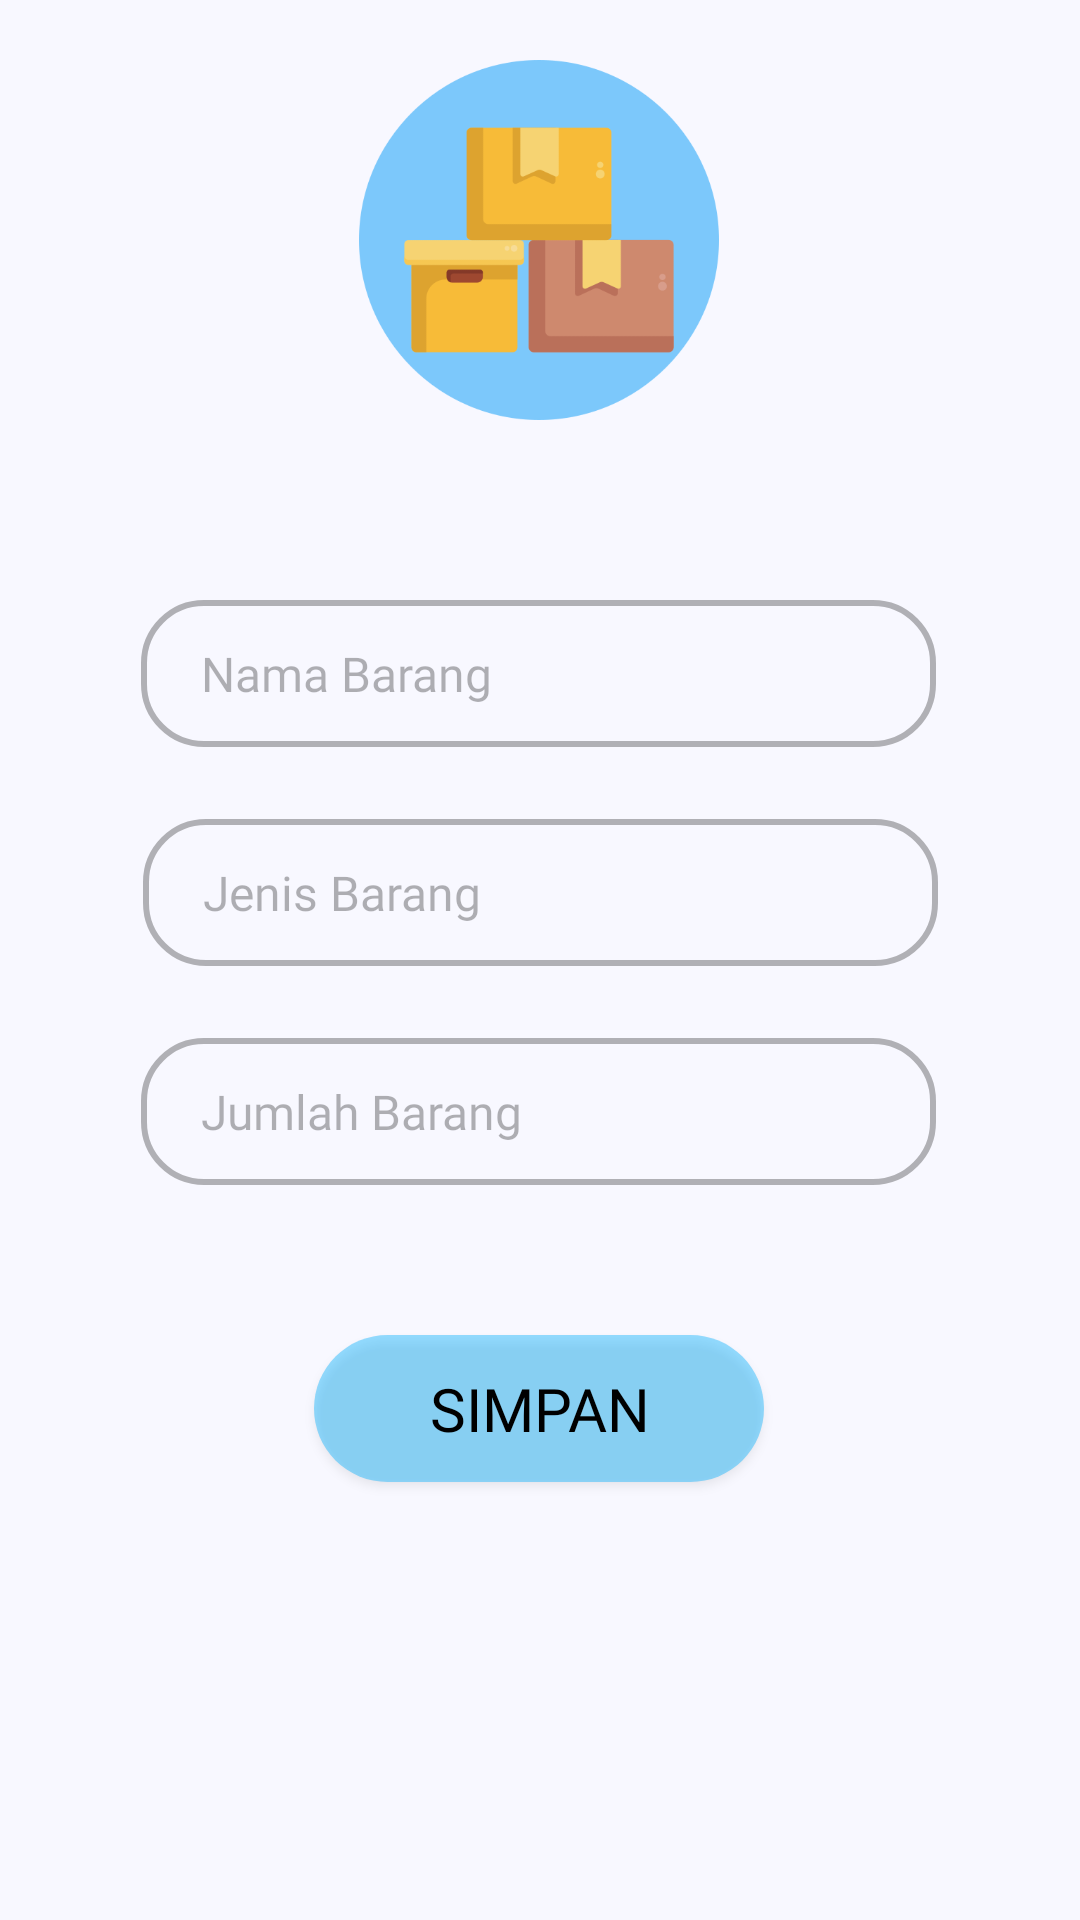

Icon click points for this 1080px x 1920px phone screenshot, format [x,y]:
boxes: [539,240]
